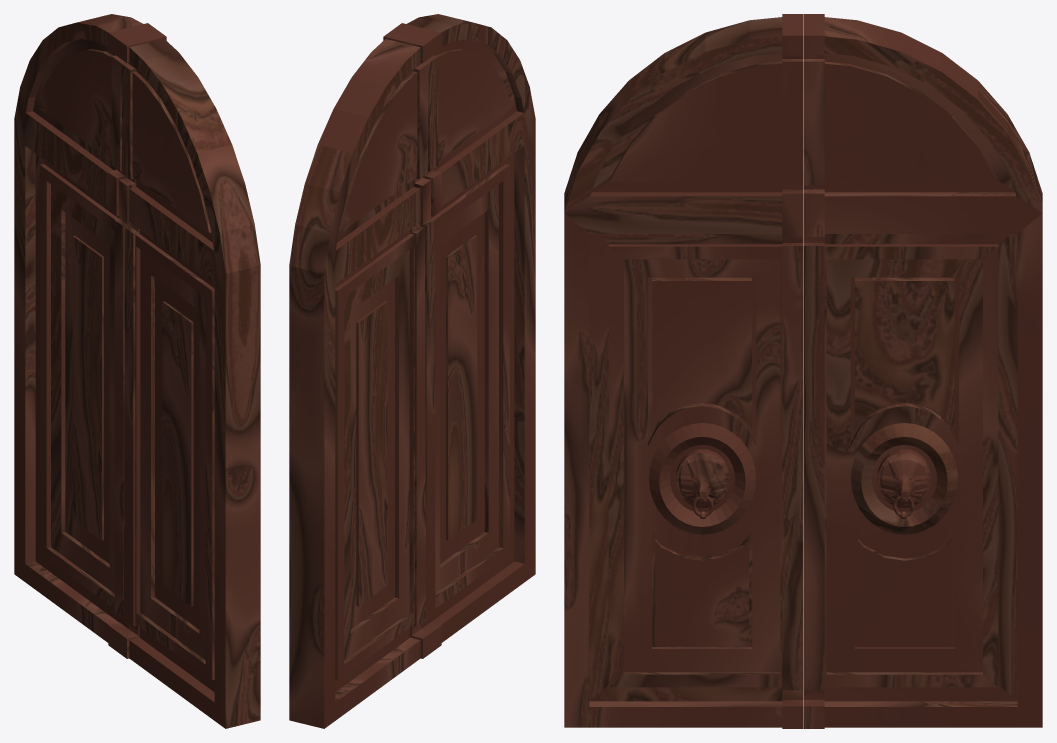
The model's file is Door_Final.fbx.
3 renders of one model, left to right at view 1: azimuth 30°, elevation 25°; view 2: azimuth 150°, elevation 25°; view 3: azimuth 270°, elevation 25°, orthographic. The views are drawn at different scales.
Parts seen in each view (by area): view 1: Door Right.001; view 2: Door Right.001; view 3: Door Right.001.
Part boxes in pixels (bbox=[...]): Door Right.001: bbox=[14, 14, 260, 728]; Door Right.001: bbox=[289, 14, 535, 728]; Door Right.001: bbox=[564, 14, 1042, 728].
Bounding box in the file's own units: 83.33 × 1060 × 663.
